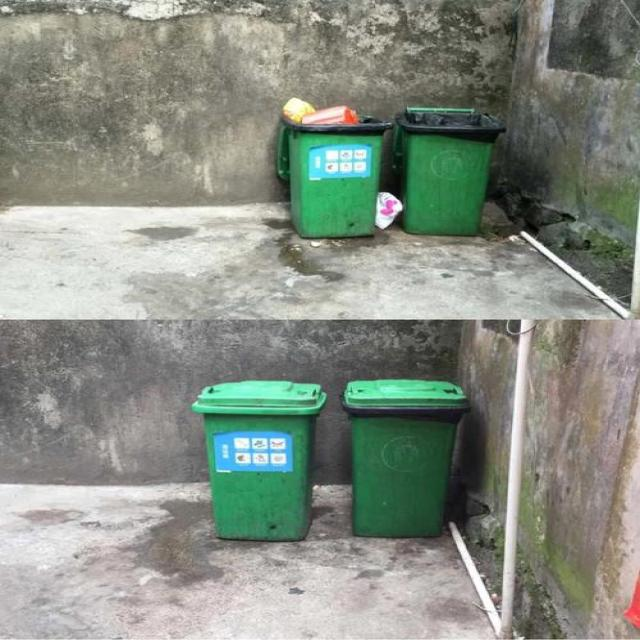garbage: (374, 191, 401, 228)
garbage_bin: (190, 379, 325, 540), (340, 378, 470, 537), (390, 106, 502, 235)
overflow: (272, 97, 386, 235)
